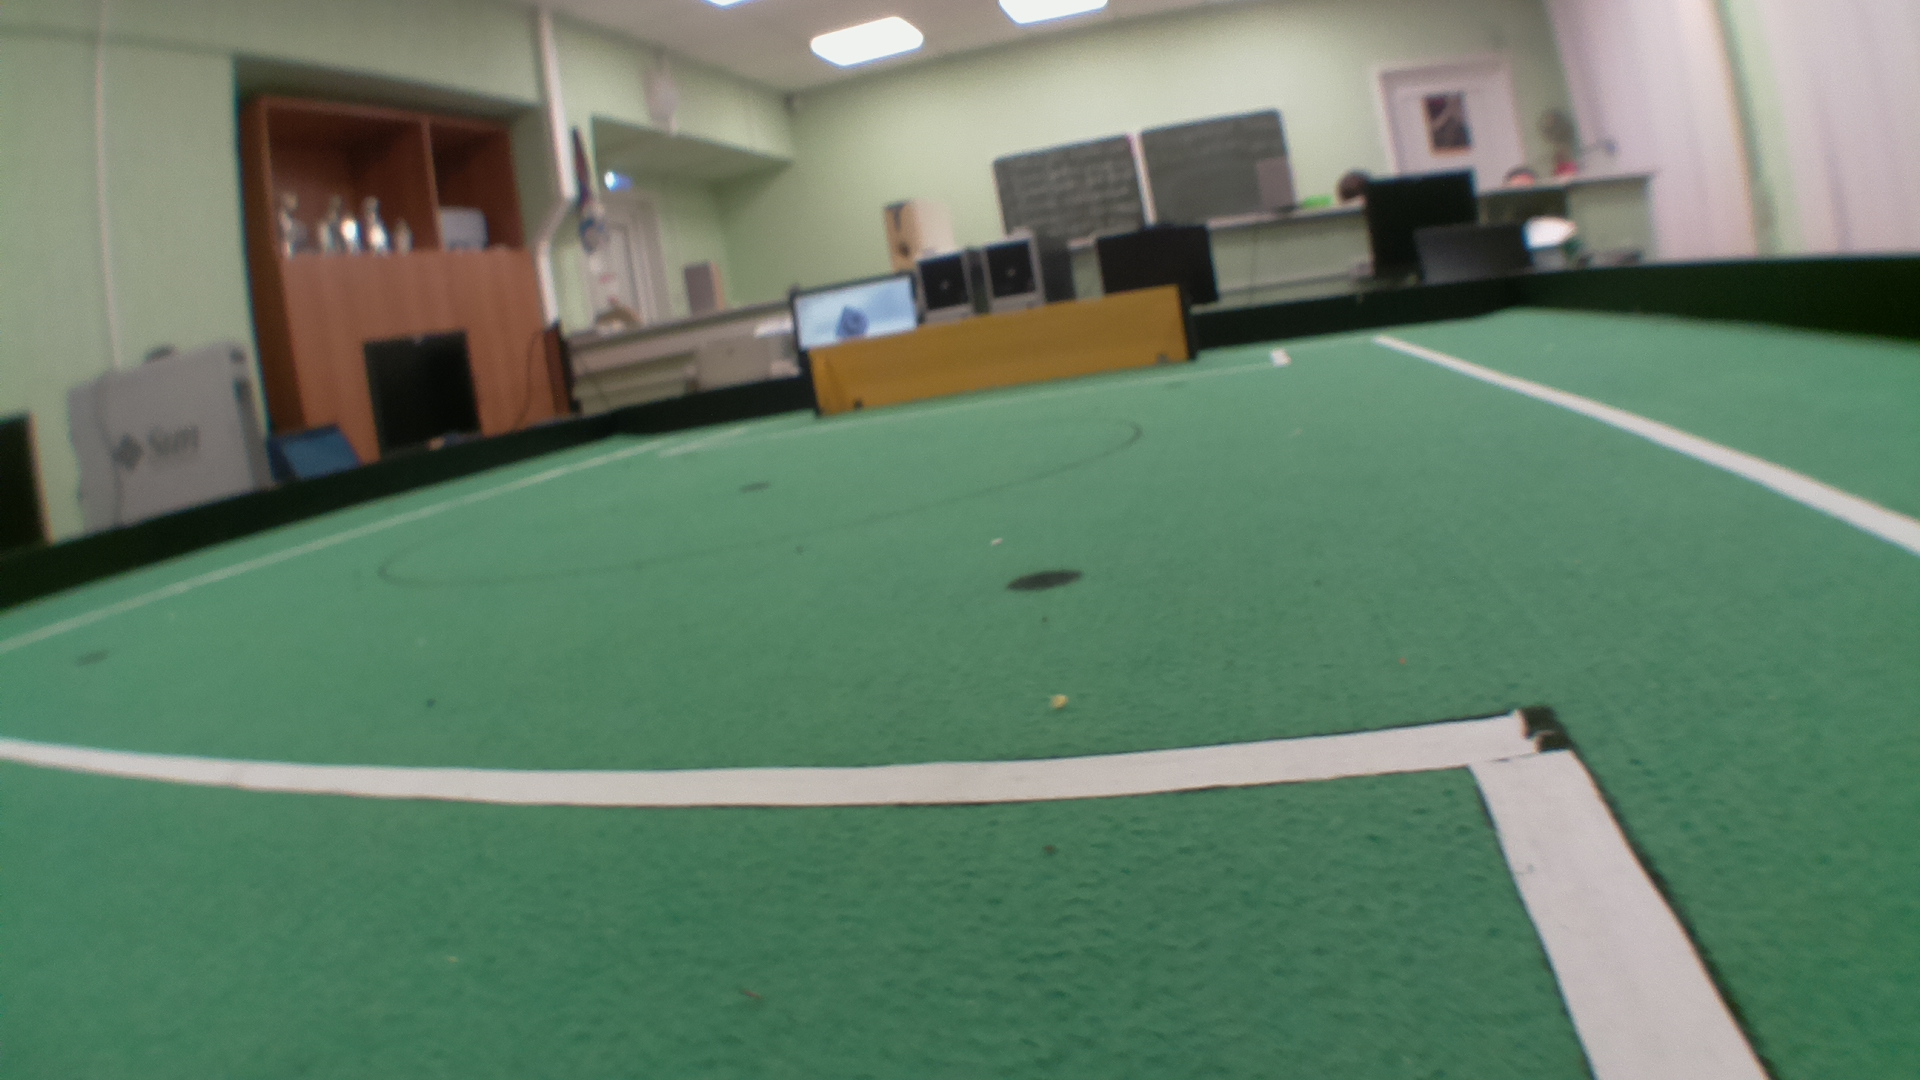YellowGoal: (808, 286, 1185, 415)
